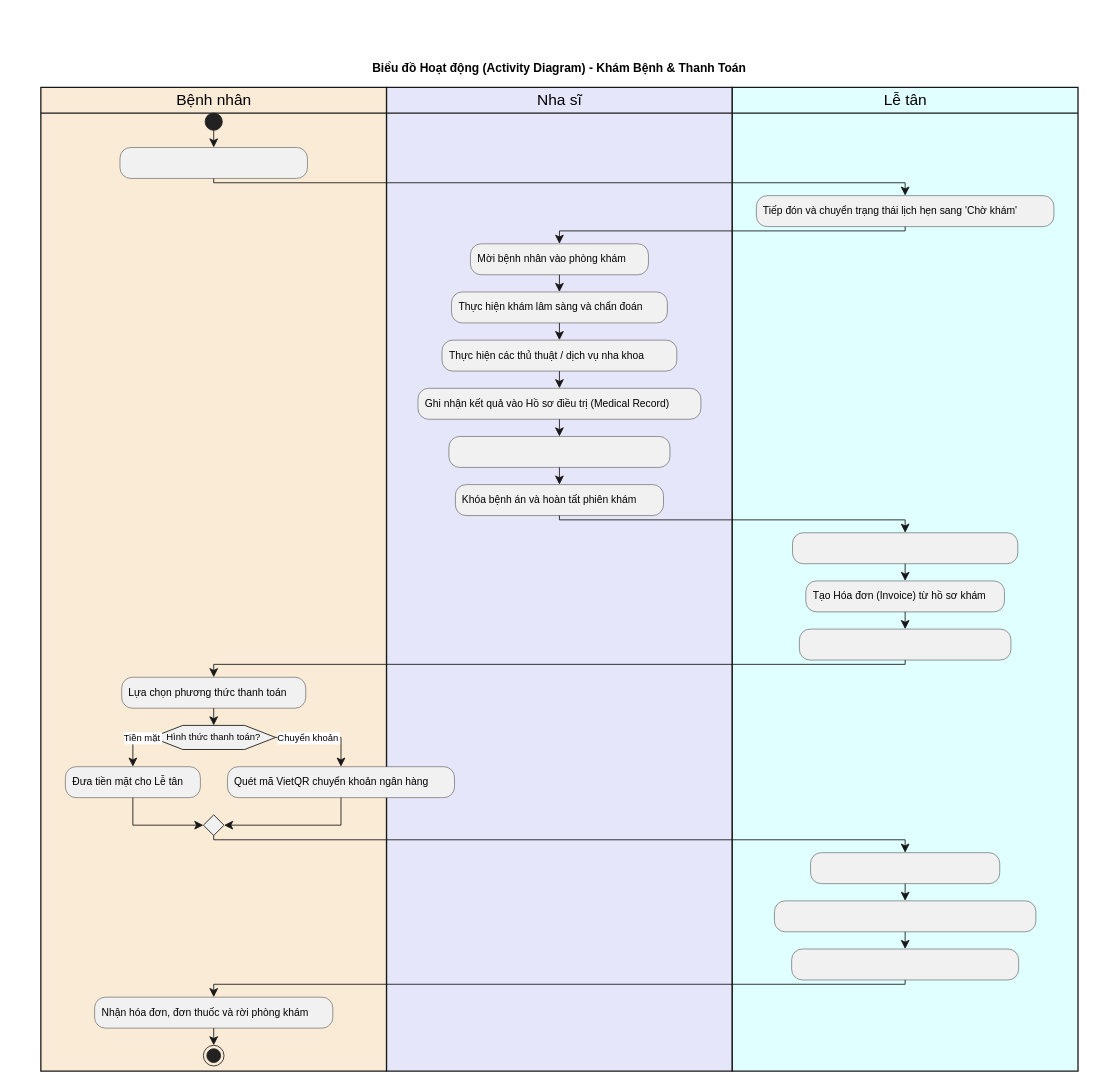
The diagram is 1093 pixels wide and 1086 high, and some of its shapes have lost their labels. The shapes that lost their labels are listed below. From the top down, each one's box as (x1, y1, x2, y2) in pixels, then its label:
(119, 147, 307, 178): Đến phòng khám theo lịch đã hẹn
(448, 436, 670, 467): Chọn danh mục các dịch vụ đã thực hiện
(792, 532, 1018, 564): Hệ thống tự động đồng bộ dịch vụ đã làm
(799, 628, 1011, 660): Thông báo tổng số tiền cần thanh toán
(810, 852, 1000, 883): Xác nhận đã nhận đủ tiền viện phí
(774, 900, 1036, 932): Cập nhật trạng thái hóa đơn sang 'Đã thanh toán'
(791, 948, 1018, 980): In hóa đơn và phiếu hẹn tái khám (nếu có)
